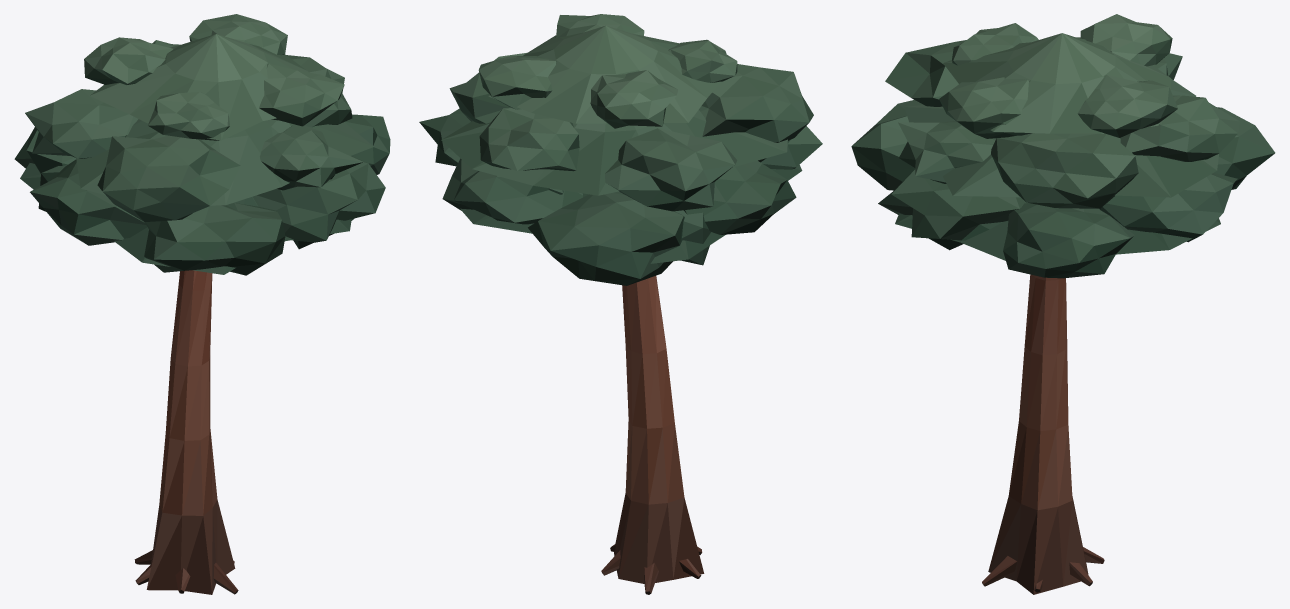
File: conifer-umbrella.glb
3 renders of one model, left to right at view 1: azimuth 30°, elevation 25°; view 2: azimuth 150°, elevation 25°; view 3: azimuth 270°, elevation 25°, orthographic. The views are drawn at different scales.
Visible parts, largest first — view 1: canopy, trunk; view 2: canopy, trunk; view 3: canopy, trunk.
Boxes of the visible parts, left/top/right/bottom form: canopy: left=14, top=14, right=390, bottom=275; trunk: left=134, top=270, right=238, bottom=594; canopy: left=419, top=14, right=822, bottom=285; trunk: left=601, top=276, right=704, bottom=594; canopy: left=851, top=14, right=1275, bottom=278; trunk: left=982, top=274, right=1104, bottom=594.
Size of the model in its own units: 4.95 by 7.16 by 4.9.
